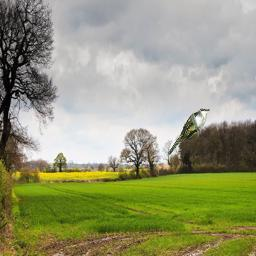Cuckoo: (167, 108, 210, 156)
